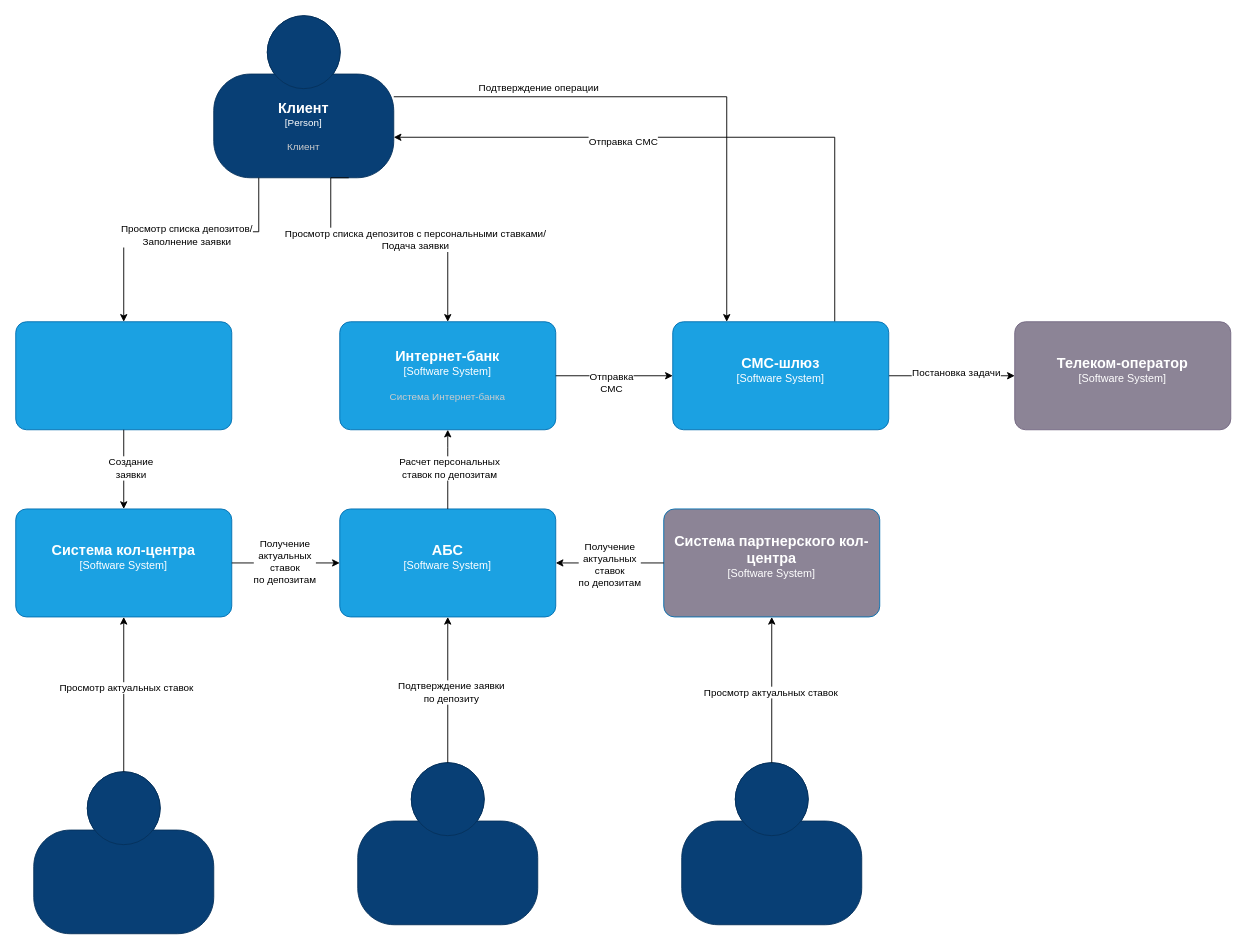
The diagram is 1247 pixels wide and 950 high, and some of its shapes have lost their labels. Each missing label, with the centre of its shape:
"Сайт [Software System]" goes at point (123, 375).
"Сотрудник бэк-офиса [Person] Сотрудник бэк-офиса" goes at point (447, 843).
"Сотрудник кол-центра [Person] Сотрудник кол-центра" goes at point (123, 852).
"Сотрудник партнерского кол-центра [Person] Сотрудник партнерского кол-центра" goes at point (771, 843).
